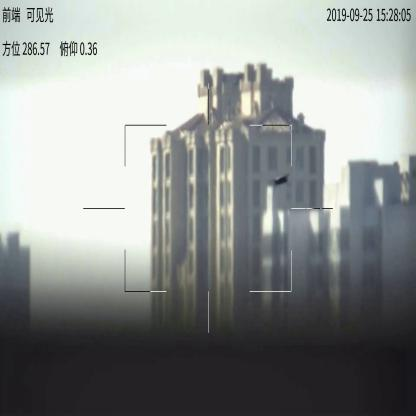uav: (274, 171, 289, 186)
